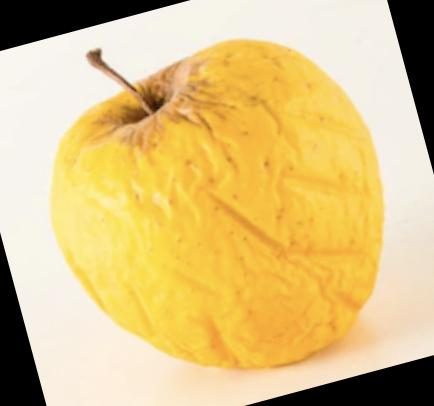Apple: (55, 41, 385, 365)
